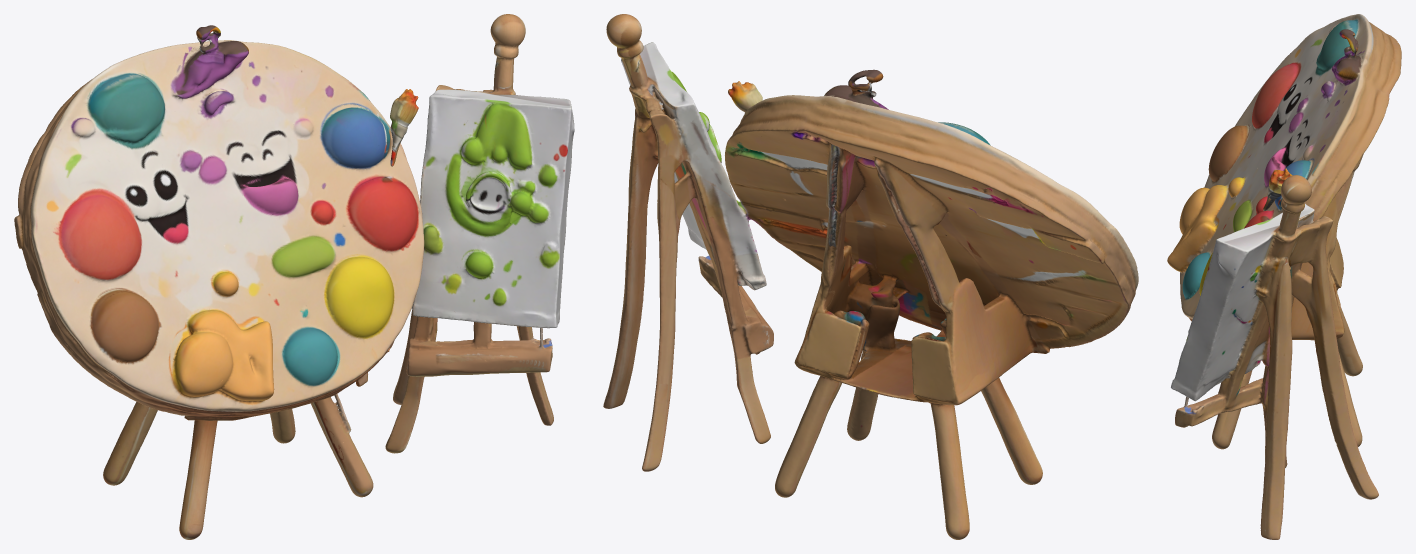
Rendered from art.glb.
3 renders of one model, left to right at view 1: azimuth 30°, elevation 25°; view 2: azimuth 150°, elevation 25°; view 3: azimuth 270°, elevation 25°, orthographic. The views are drawn at different scales.
Bounding box in the file's own units: 65665 × 53561 × 29725.
1 material, 1 textured.
